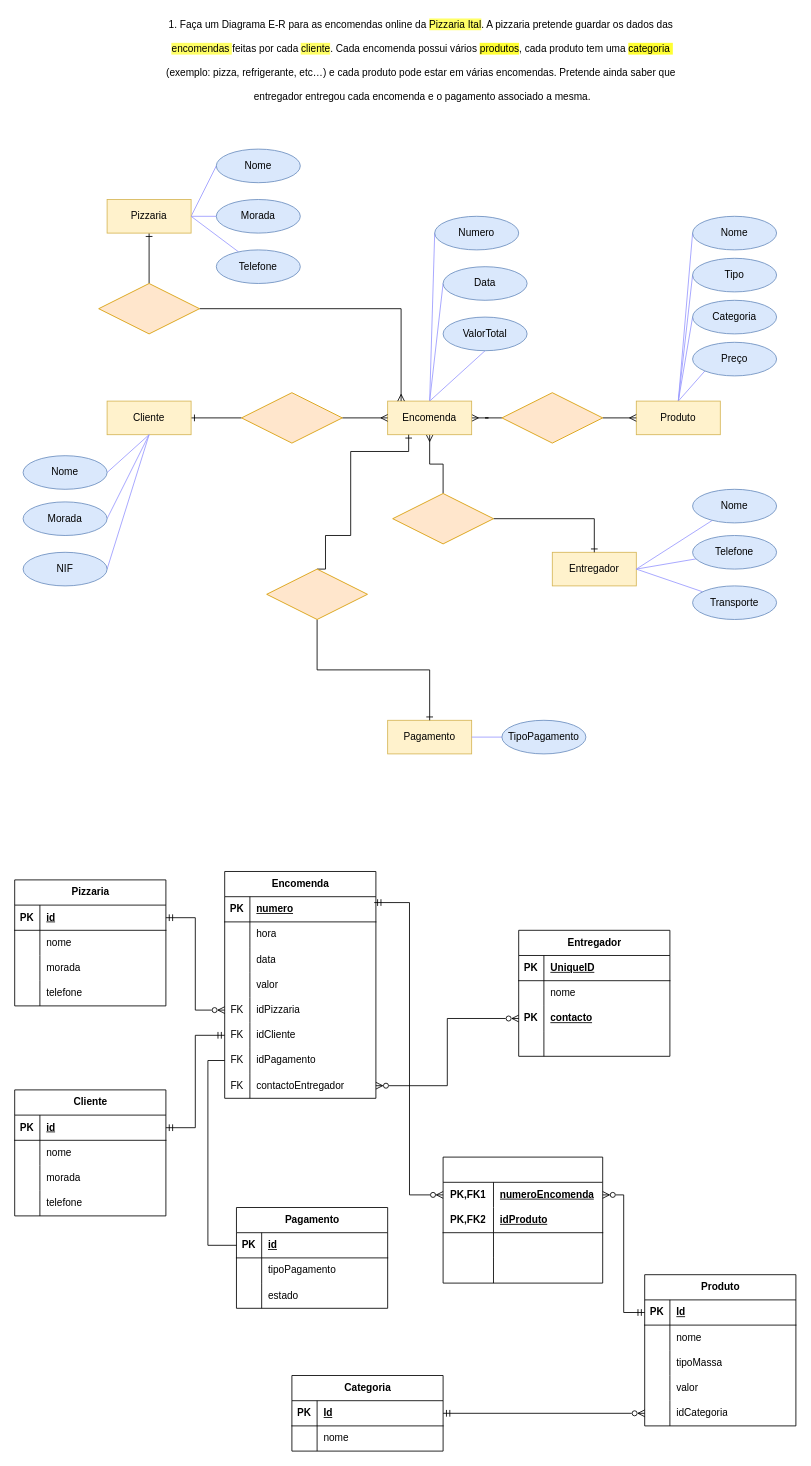
Some shapes in this 811 by 1466 pixel diagram are drawn without their labels. Here are the shapes that lost their labels. From the top down, the box of each, then its label:
(98, 283, 200, 334): Contém
(241, 392, 342, 443): Faz
(501, 392, 603, 443): Possui
(392, 493, 494, 544): Contem
(266, 568, 368, 620): Tem
(442, 1156, 603, 1283): Encomenda_Produto
